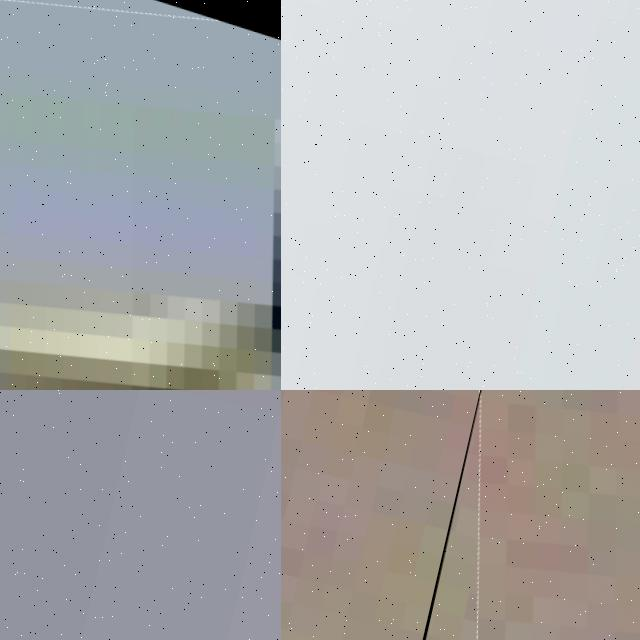drone: (0, 0, 281, 390), (375, 390, 640, 640)
